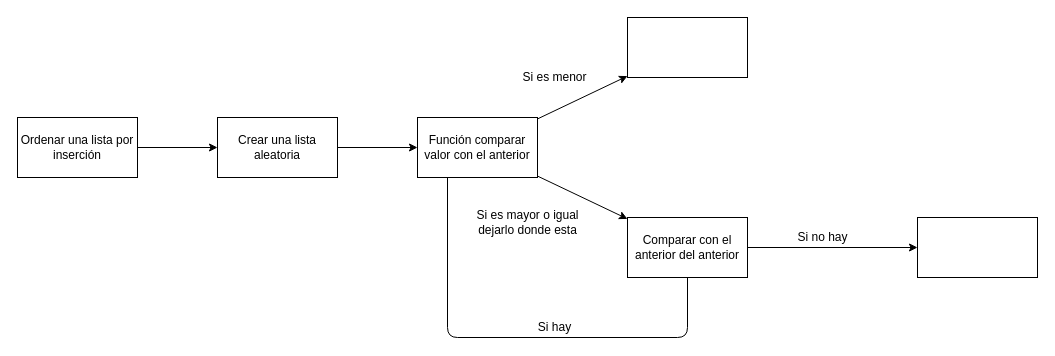
Image size: 1055x356. Some labels were removed from this diagram. The box of each missing label's shape, as (x1, y1, x2, y2) in pixels:
Fin: (916, 216, 1038, 278)
intercambiarlo: (626, 16, 748, 78)
